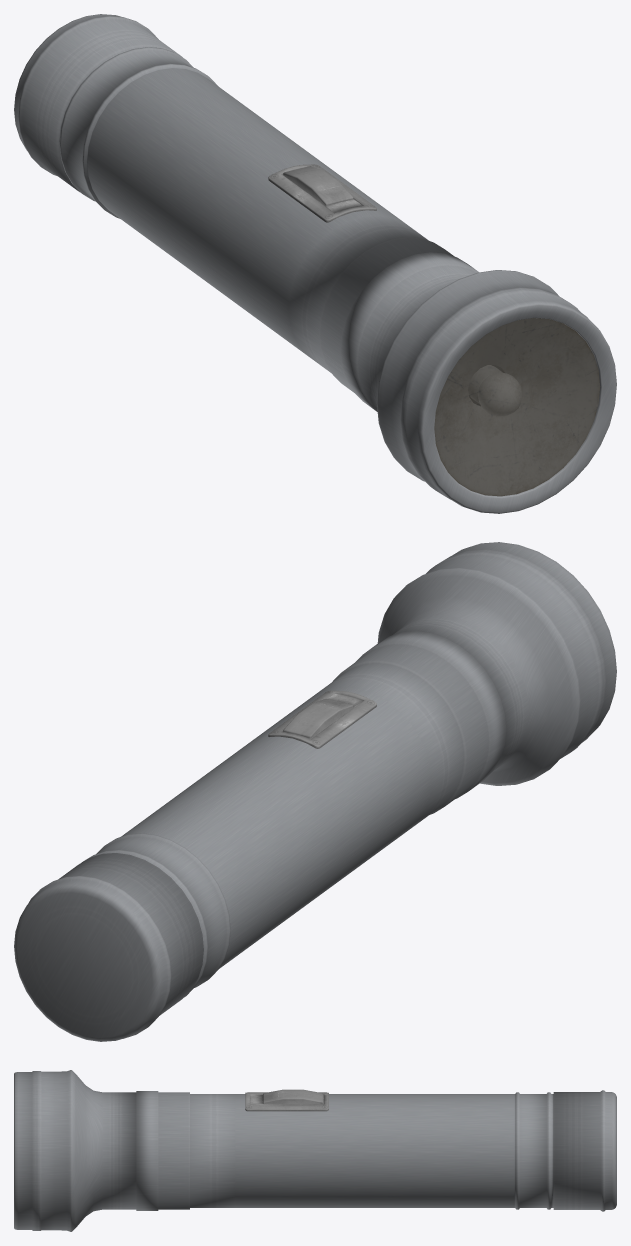
File: flashlight0417.fbx
3 renders of one model, top to bottom at view 1: azimuth 30°, elevation 25°; view 2: azimuth 150°, elevation 25°; view 3: azimuth 270°, elevation 25°, orthographic. The views are drawn at different scales.
Visible parts, largest first — view 1: Body; view 2: Body; view 3: Body.
Part boxes in pixels (bbox=[...]): Body: bbox=[14, 14, 616, 513]; Body: bbox=[14, 542, 616, 1041]; Body: bbox=[14, 1070, 616, 1231].
Bounding box in the file's own units: 4.86 × 4.86 × 18.11.
2 materials, 2 textured.
